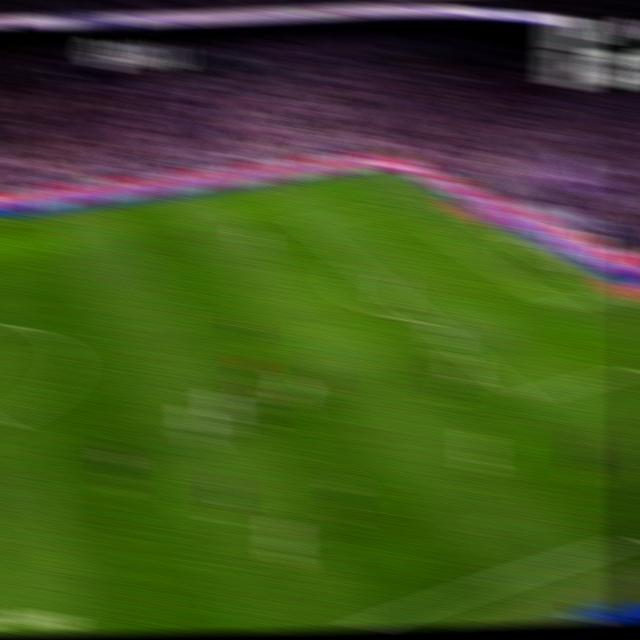bigarea_bottom_inner: (511, 384, 538, 408)
bigarea_top_inner: (293, 215, 315, 228)
bigarea_top_outter: (424, 192, 447, 205)
bottom_arc_area_intersection: (416, 312, 439, 328)
corner: (370, 165, 394, 176)
smallarea_bottom_inner: (545, 295, 570, 314)
smallarea_top_inner: (436, 232, 457, 243)
top_arc_area_intersection: (340, 252, 366, 268)
